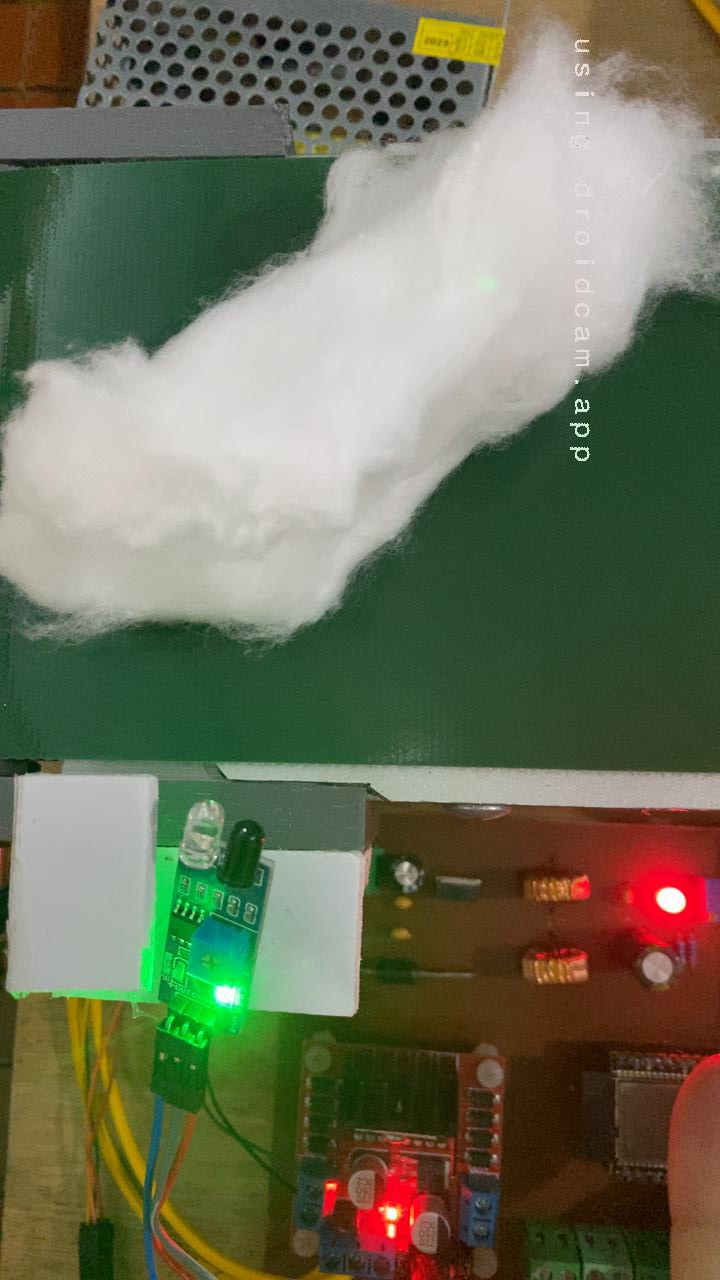cotton: (0, 160, 720, 646)
